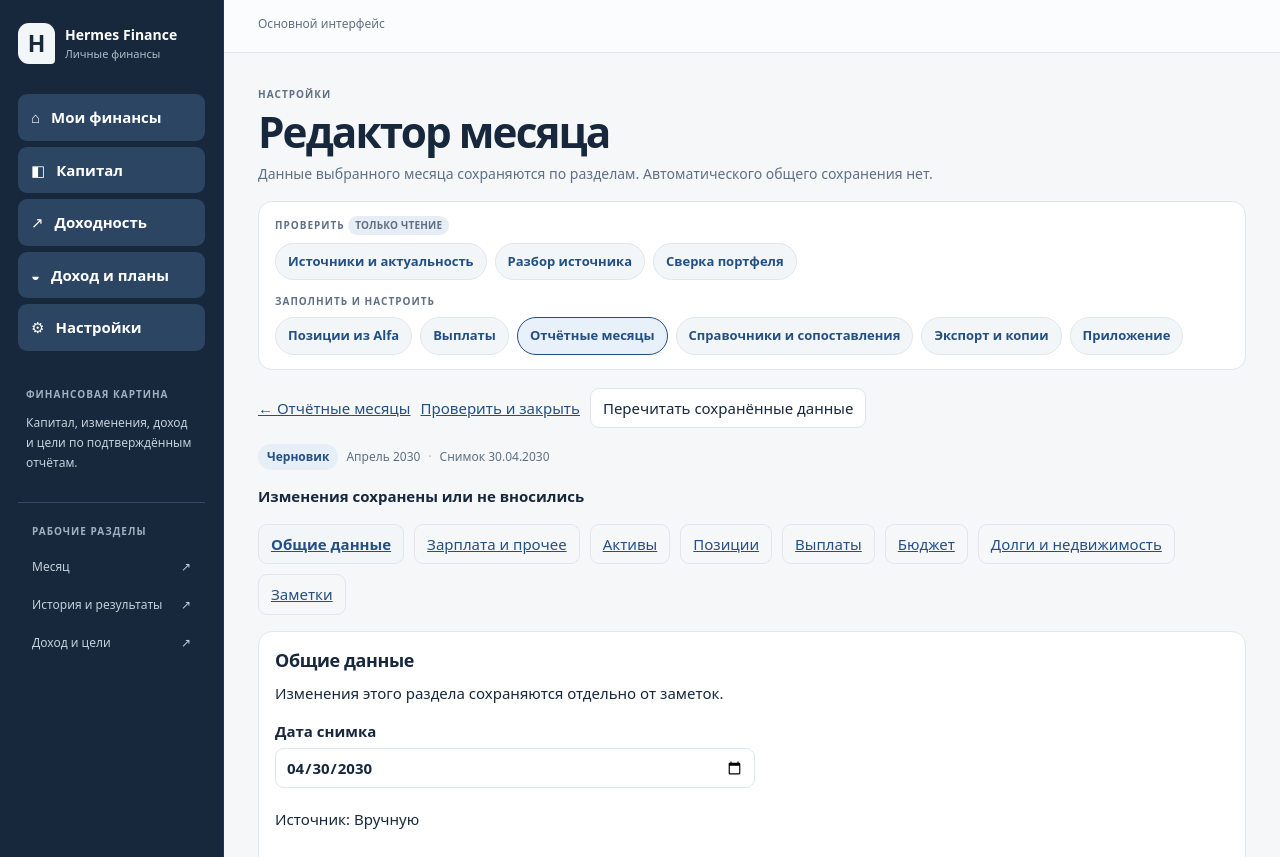
Test: native month editor frame › saves general fields only after exact readback
This screenshot has width=1280, height=857.
Type "2030-04-29" into the date field labelled "Дата снимка".
click(515, 768); type("2030-04-29")  # box [275,748,755,788]
(page scrolled)
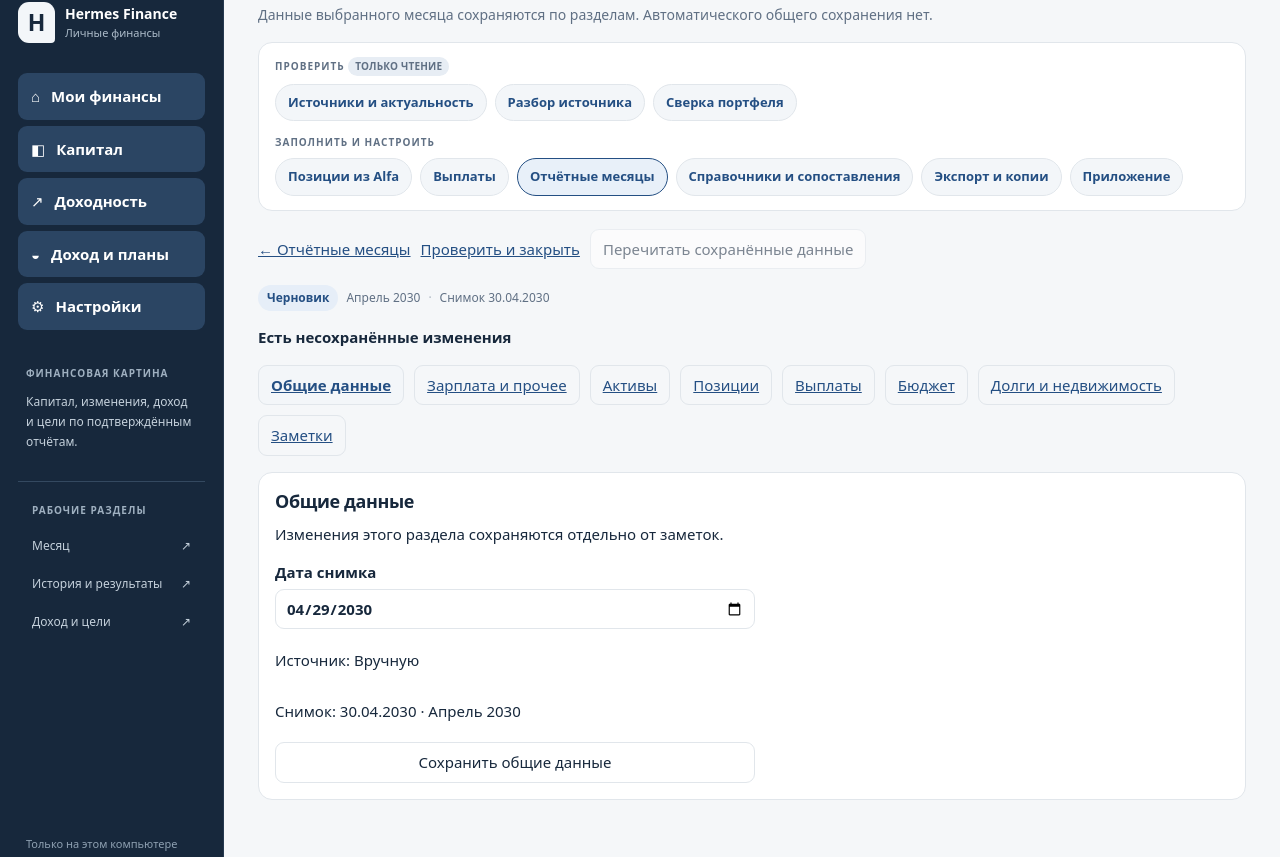
Click the button "Сохранить общие данные".
click(515, 763)  # box [275,742,755,783]
(page scrolled)
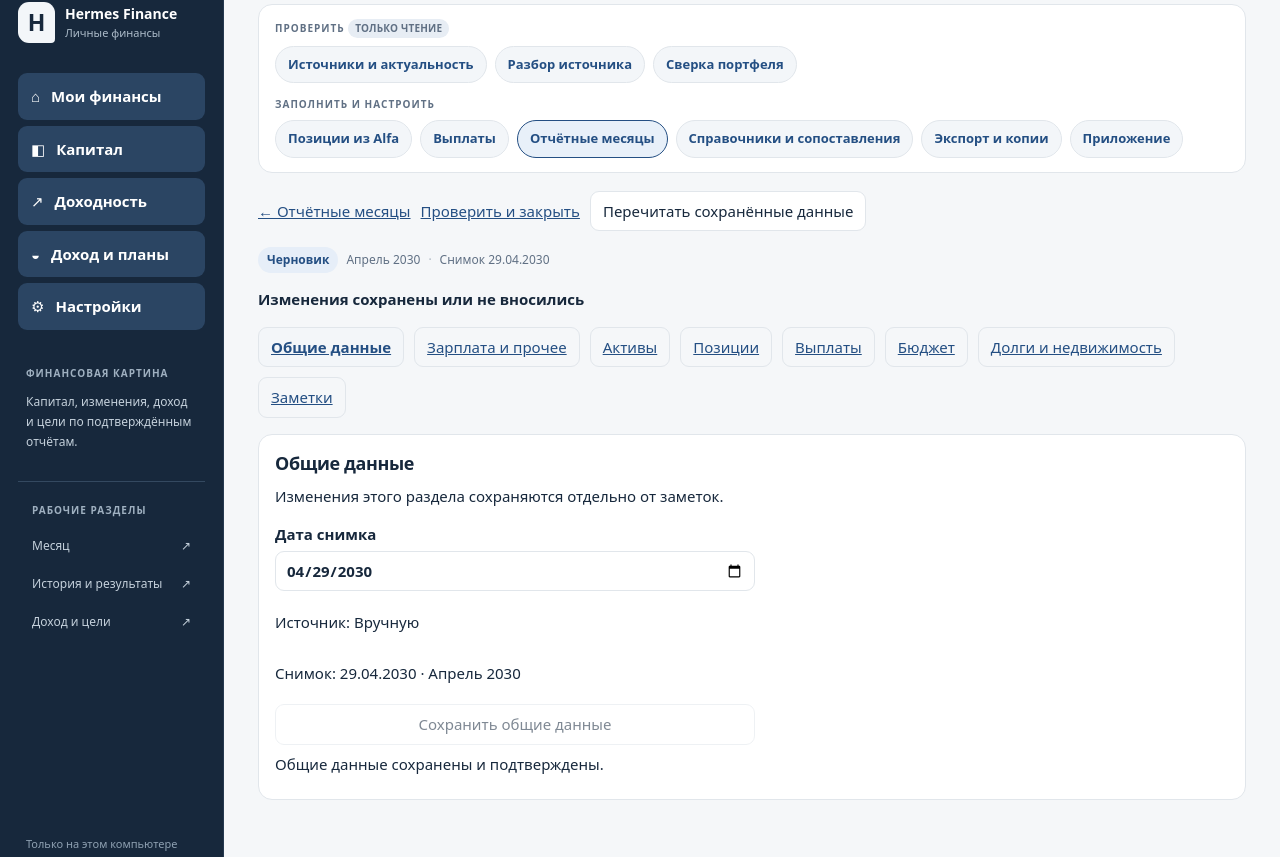
Result: the text "Общие данные сохранены и подтверждены." is shown at [275,754,604,774]
